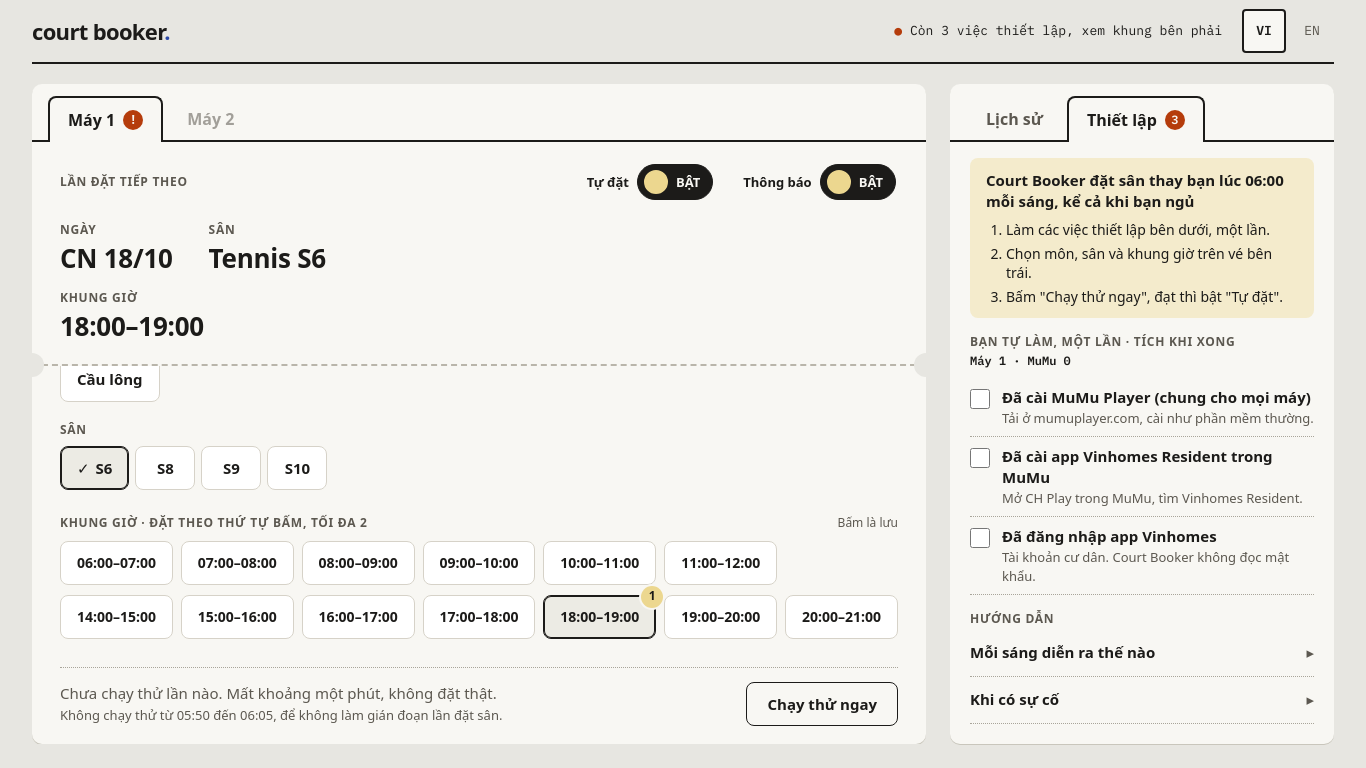
BookingTicket choices › keeps the last slot
(page scrolled)
Click the button named "18:00–19:00, lượt 1".
click(600, 617)  # box [543, 595, 656, 639]
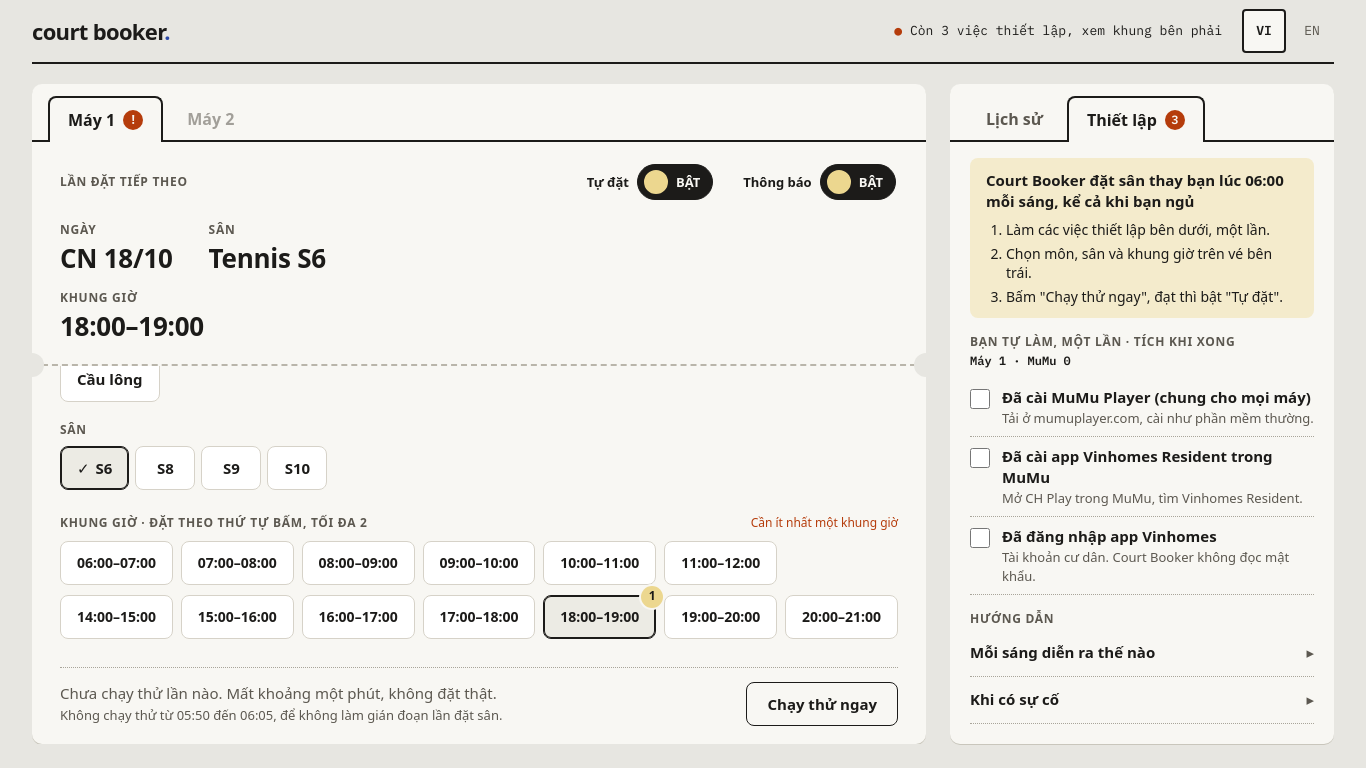
Expected: the text "Cần ít nhất một khung giờ" is shown, [751, 514, 898, 531]
